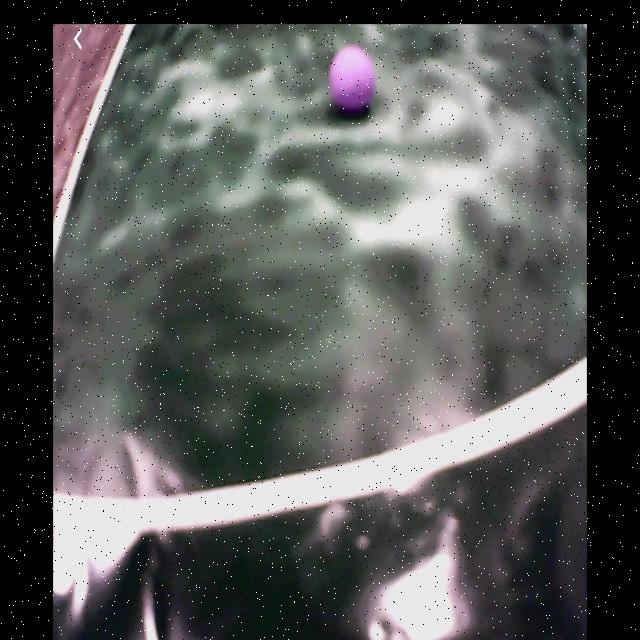ball: (331, 46, 376, 114)
